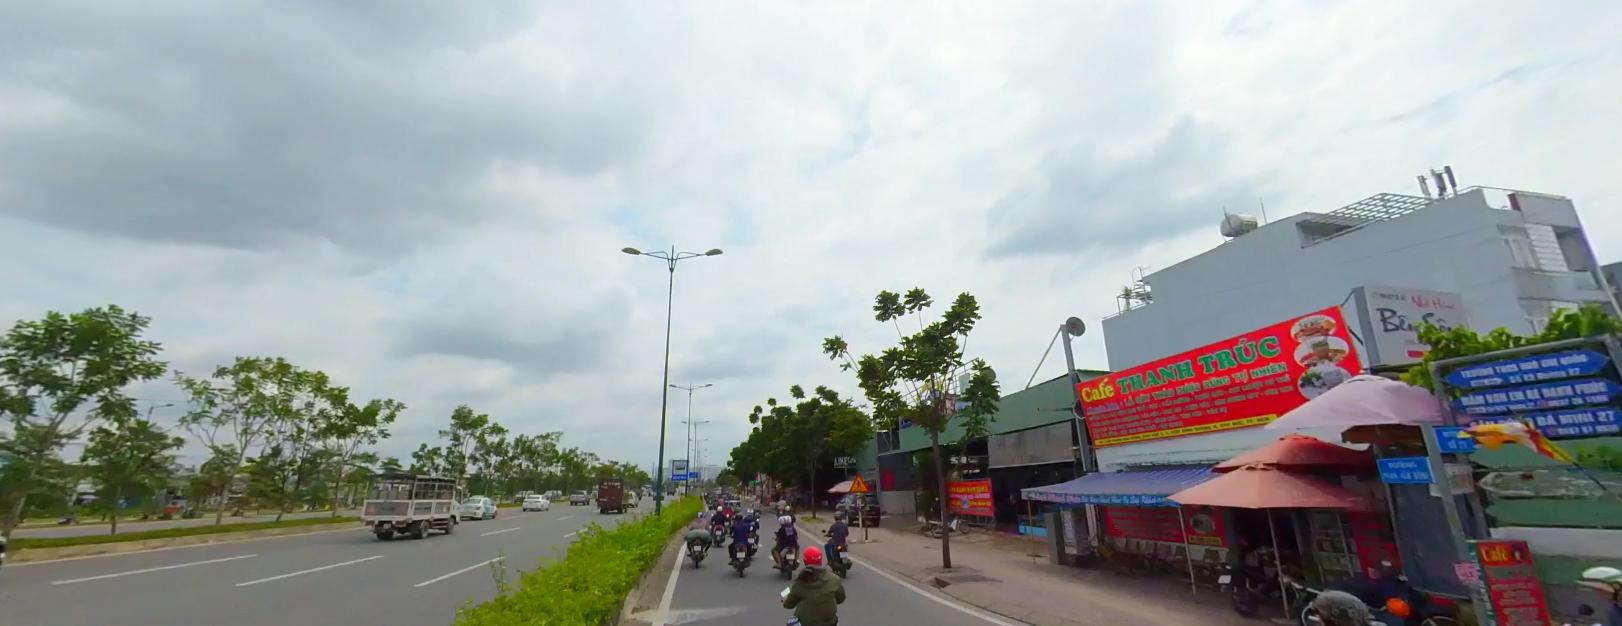Nguy hiem: (848, 472, 869, 491)
